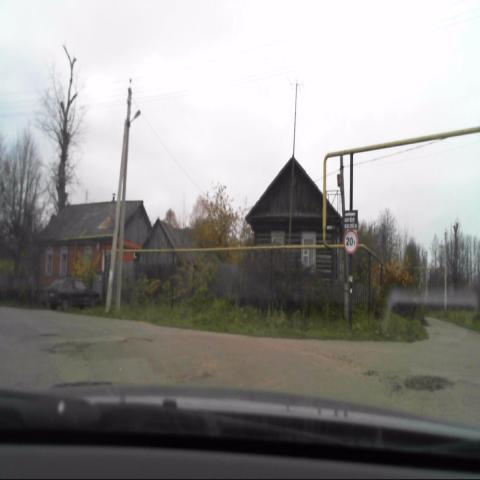3_11: (343, 231, 358, 255)
